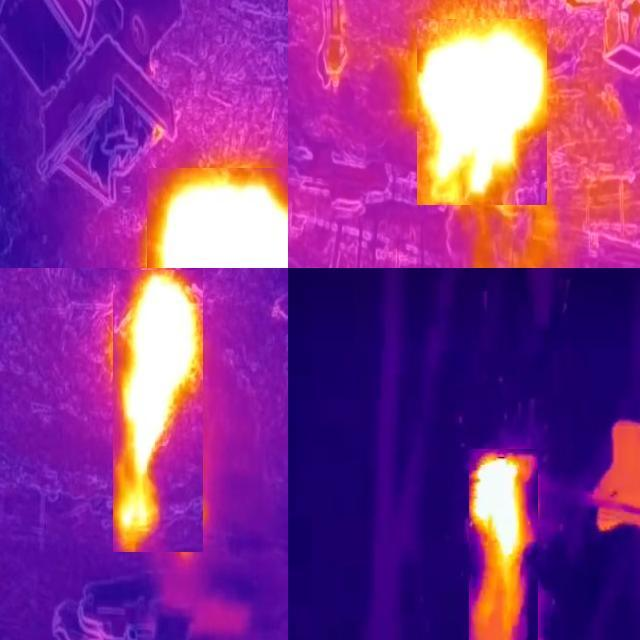fire: (113, 270, 203, 552), (417, 19, 547, 205), (147, 168, 289, 269), (469, 449, 538, 640)
